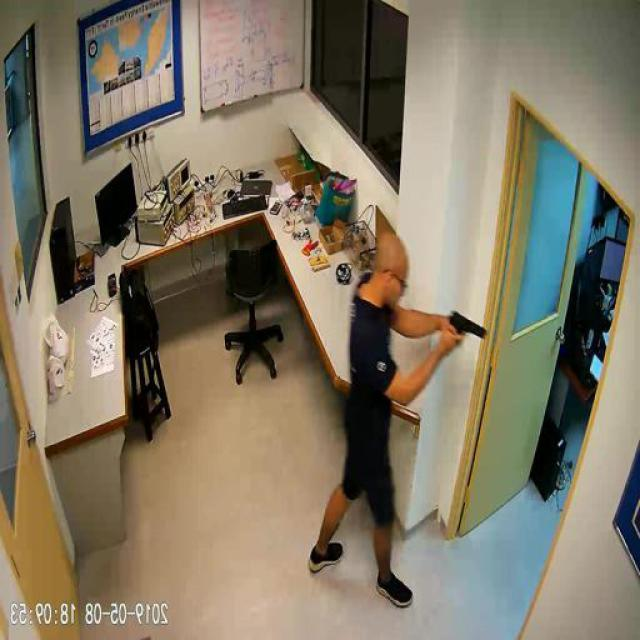weapon: (445, 311, 487, 348)
